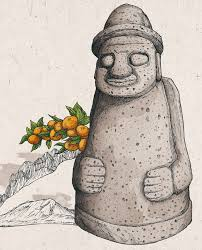Stone Statue: (69, 2, 195, 250)
